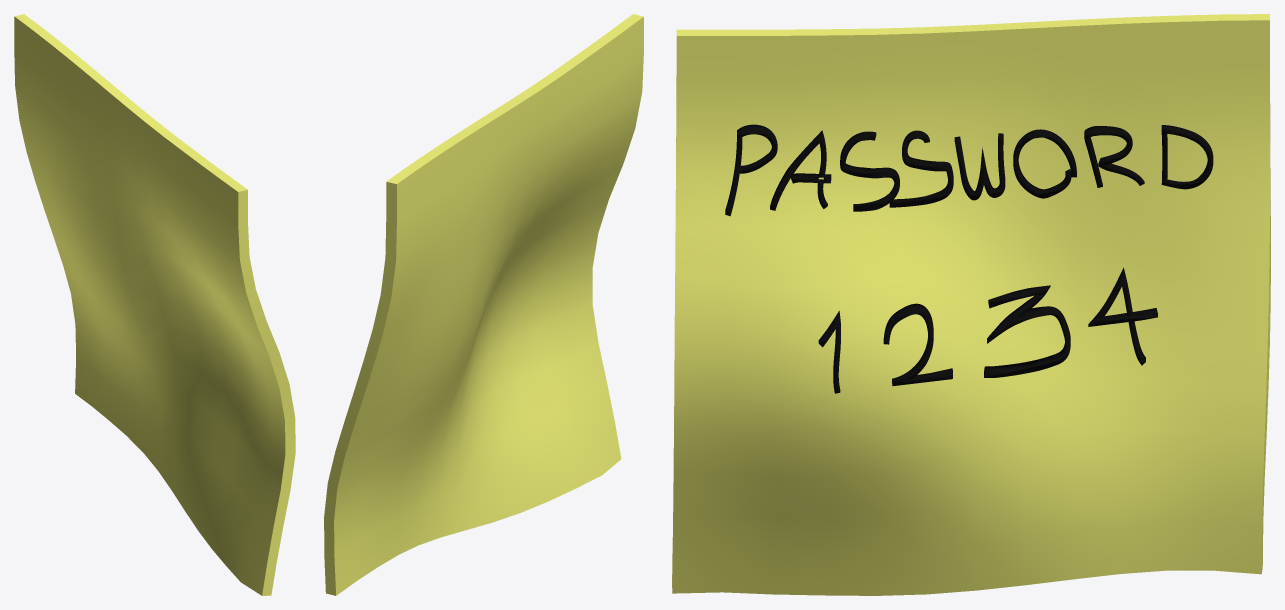
Rendered from TheNote.fbx.
3 views of the same model, side by side, from view 1: azimuth 30°, elevation 25°; view 2: azimuth 150°, elevation 25°; view 3: azimuth 270°, elevation 25° (orthographic). The views are drawn at different scales.
Parts seen in each view (by area): view 1: Note.001; view 2: Note.001; view 3: Note.001, PasswordText.001.
Boxes of the visible parts, x1,y1,x2,y2 form: Note.001: (14,14,295,595); Note.001: (324,14,643,595); Note.001: (672,14,1270,595); PasswordText.001: (725,124,1213,393).
Bounding box in the file's own units: 147 × 764 × 742.
